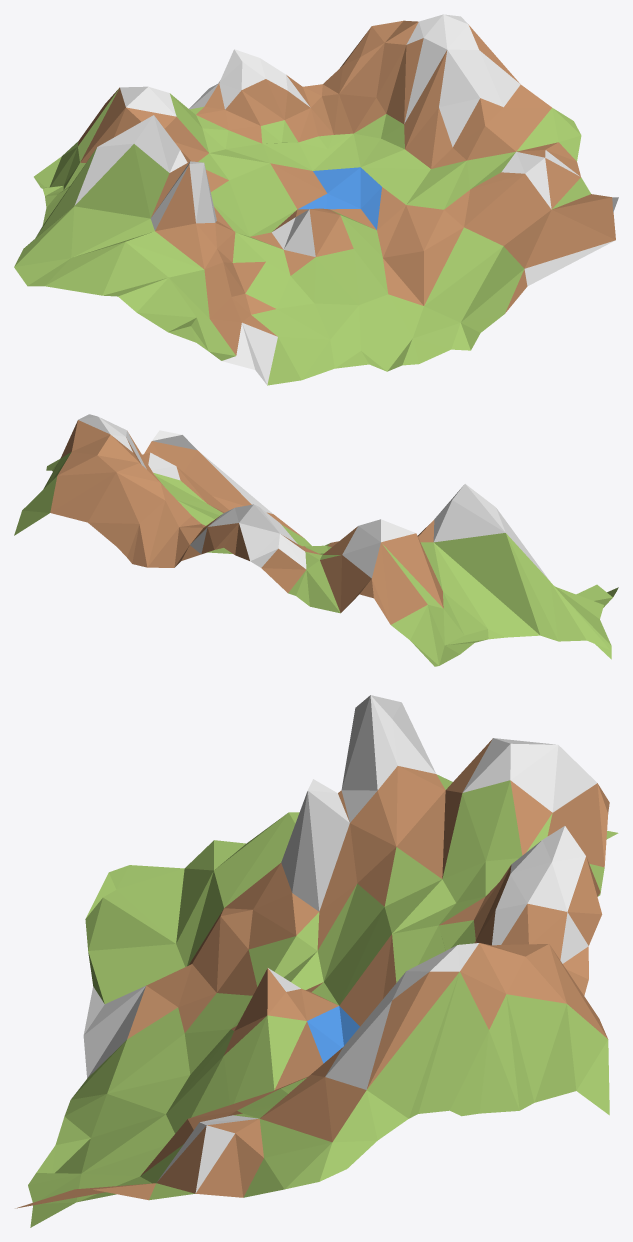
File: mountain.gltf
The picture shows the model from 3 angles, top to bottom: view 1: azimuth 30°, elevation 25°; view 2: azimuth 150°, elevation 25°; view 3: azimuth 270°, elevation 25°; orthographic projection. The views are drawn at different scales.
Visible parts, largest first — view 1: Grid; view 2: Grid; view 3: Grid.
Part boxes in pixels (x1,y1,x2,y2): Grid: [14, 14, 618, 385]; Grid: [14, 414, 618, 666]; Grid: [15, 695, 618, 1227].
Bounding box in the file's own units: 18.53 × 7.35 × 10.71.
